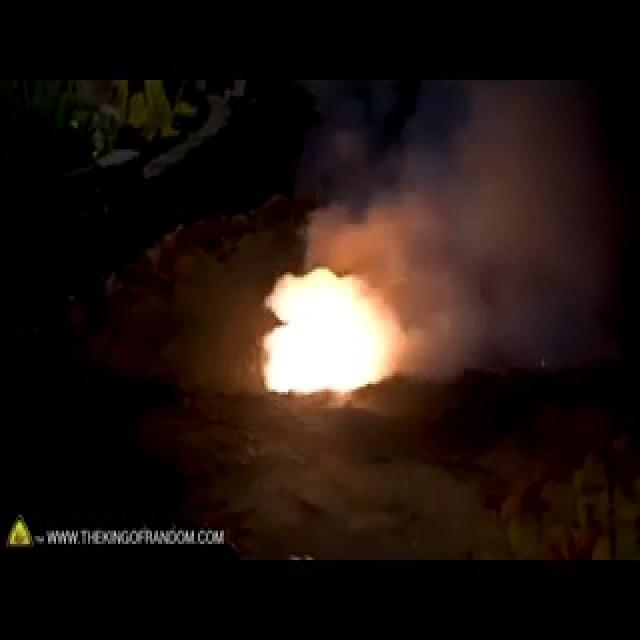Fire: (251, 182, 407, 398)
